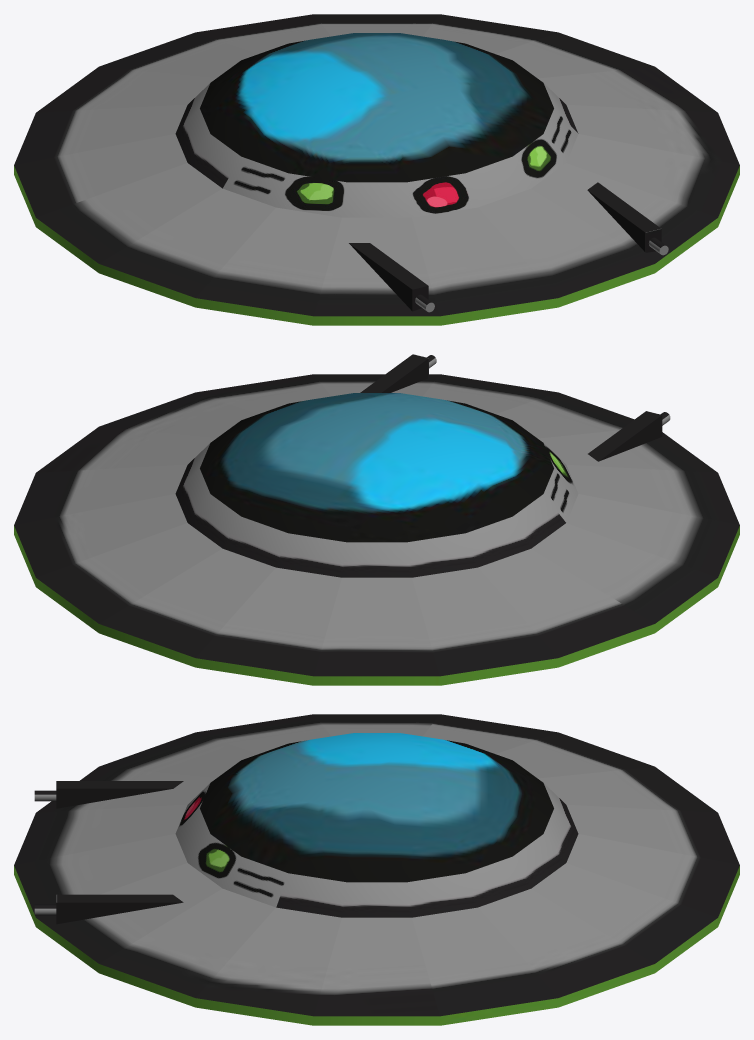
The model's file is Flying Saucer.FBX.
3 renders of one model, top to bottom at view 1: azimuth 30°, elevation 25°; view 2: azimuth 150°, elevation 25°; view 3: azimuth 270°, elevation 25°, orthographic.
Parts seen in each view (by area): view 1: Sphere001; view 2: Sphere001; view 3: Sphere001.
Boxes of the visible parts, <box> form: Sphere001: <box>14,14,739,325</box>; Sphere001: <box>14,354,739,685</box>; Sphere001: <box>14,714,739,1025</box>.
Size of the model in its own units: 176 by 178 by 37.33.
1 material, 1 textured.
